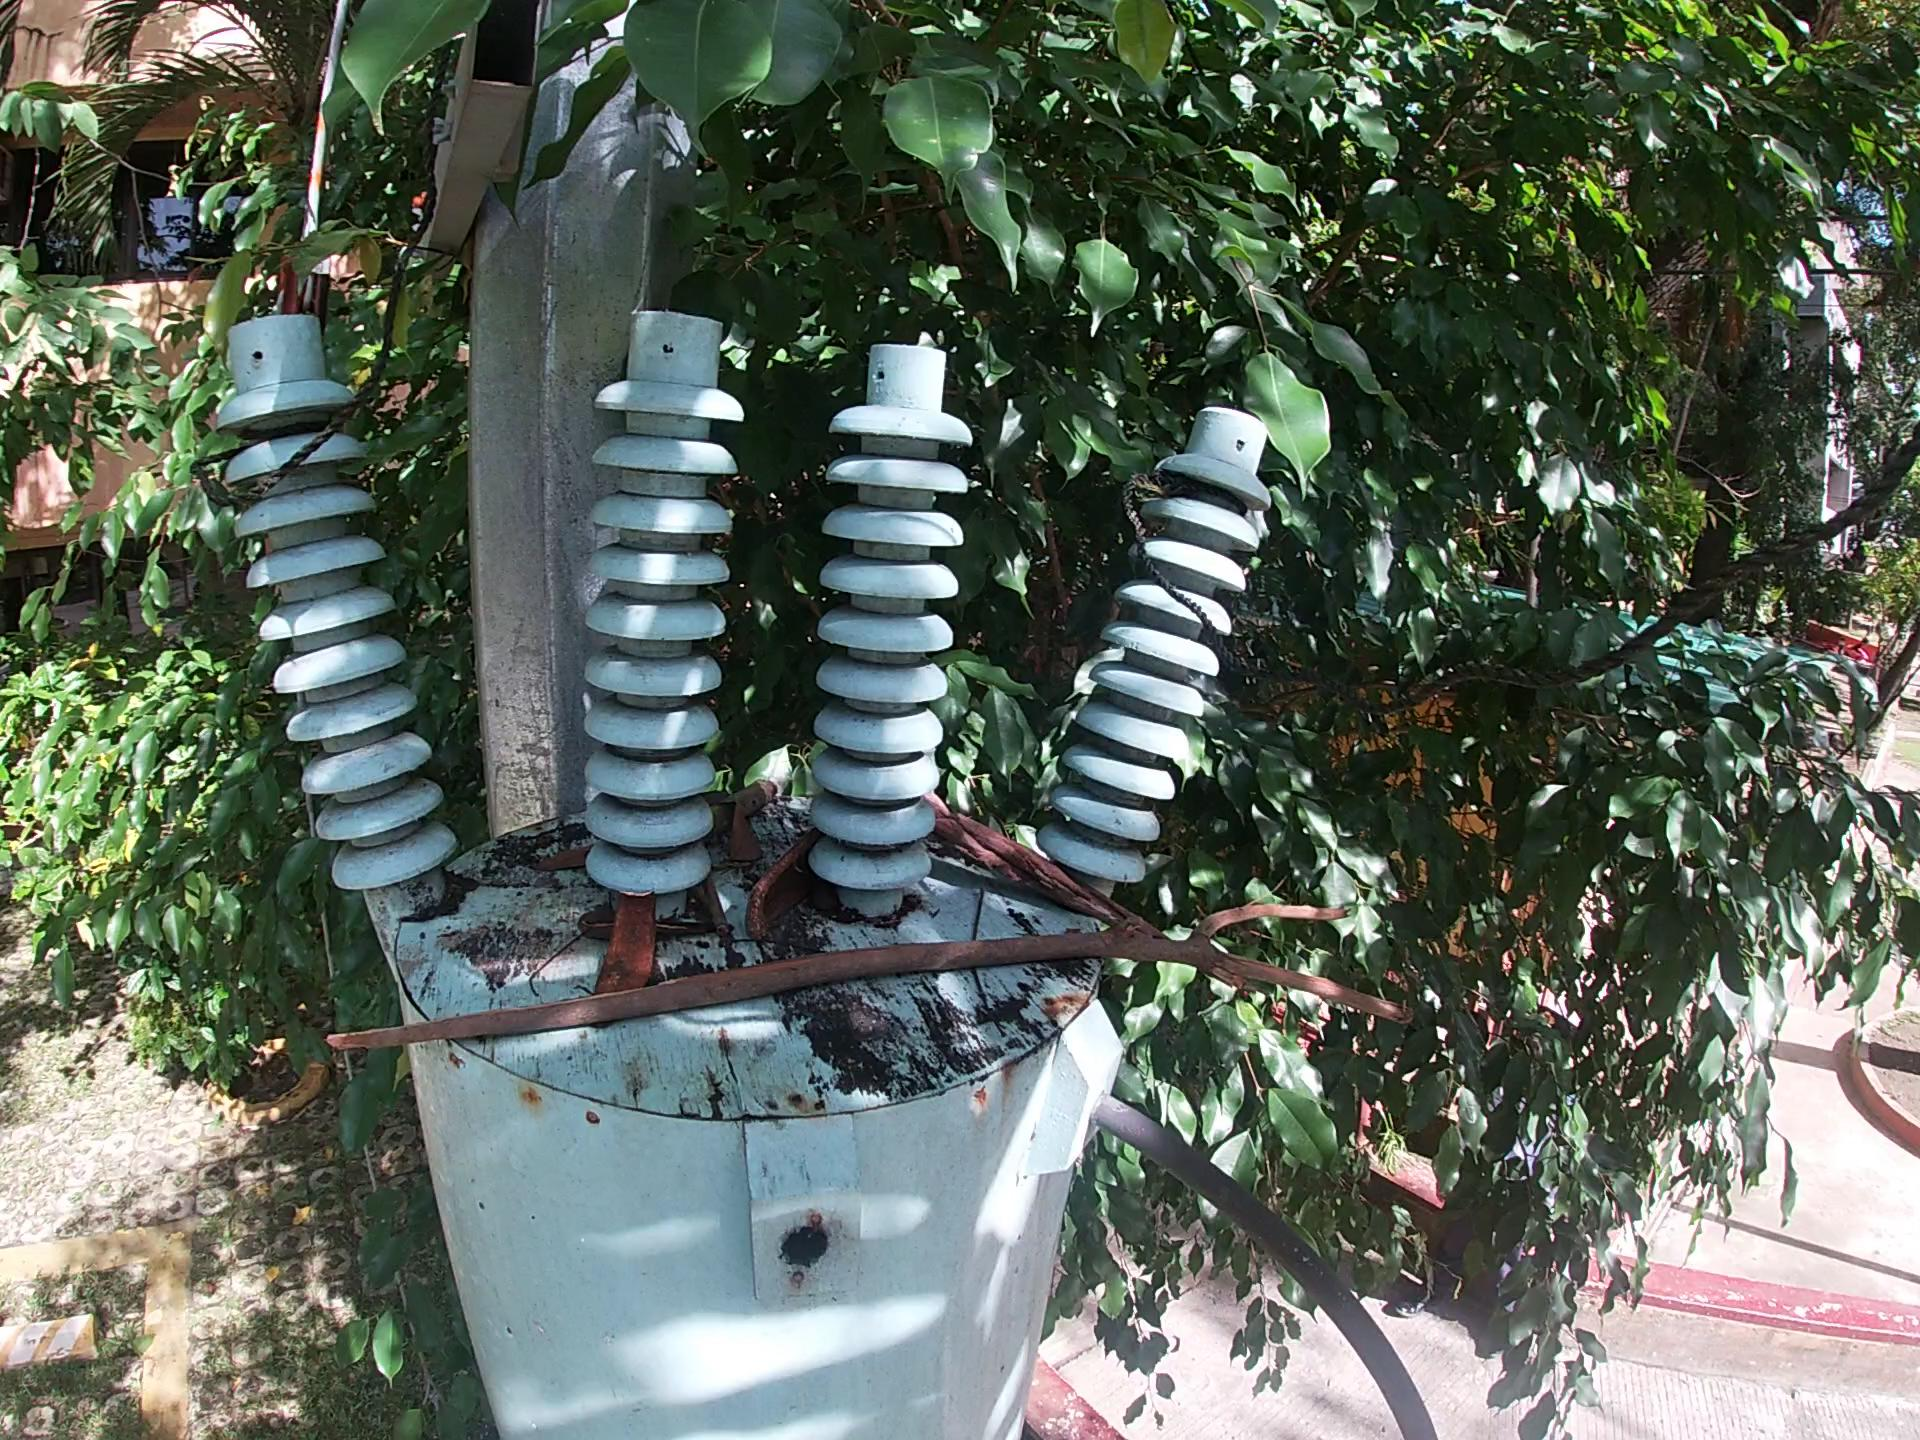leaf: (721, 796, 771, 870), (528, 844, 605, 876), (579, 898, 608, 954)
mahogany fruit: (742, 827, 821, 948), (593, 883, 667, 1001)
tree branch: (321, 898, 1415, 1059), (931, 793, 1169, 939), (709, 777, 789, 843), (705, 871, 735, 945)
